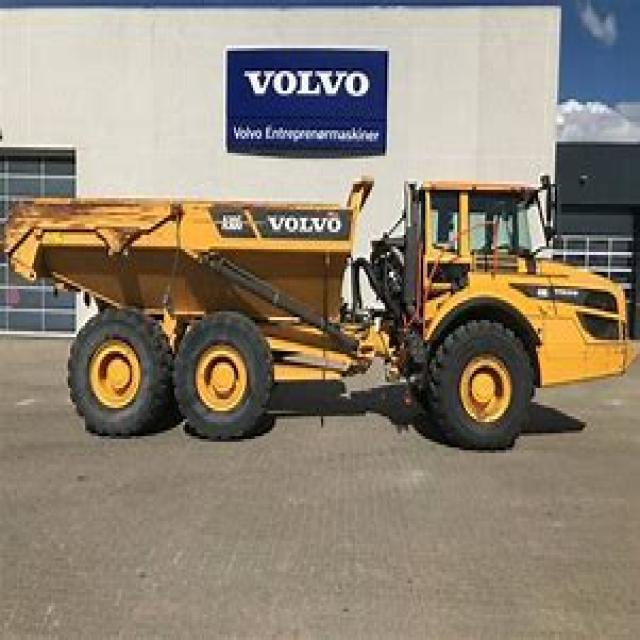dump_truck: (19, 172, 636, 462)
